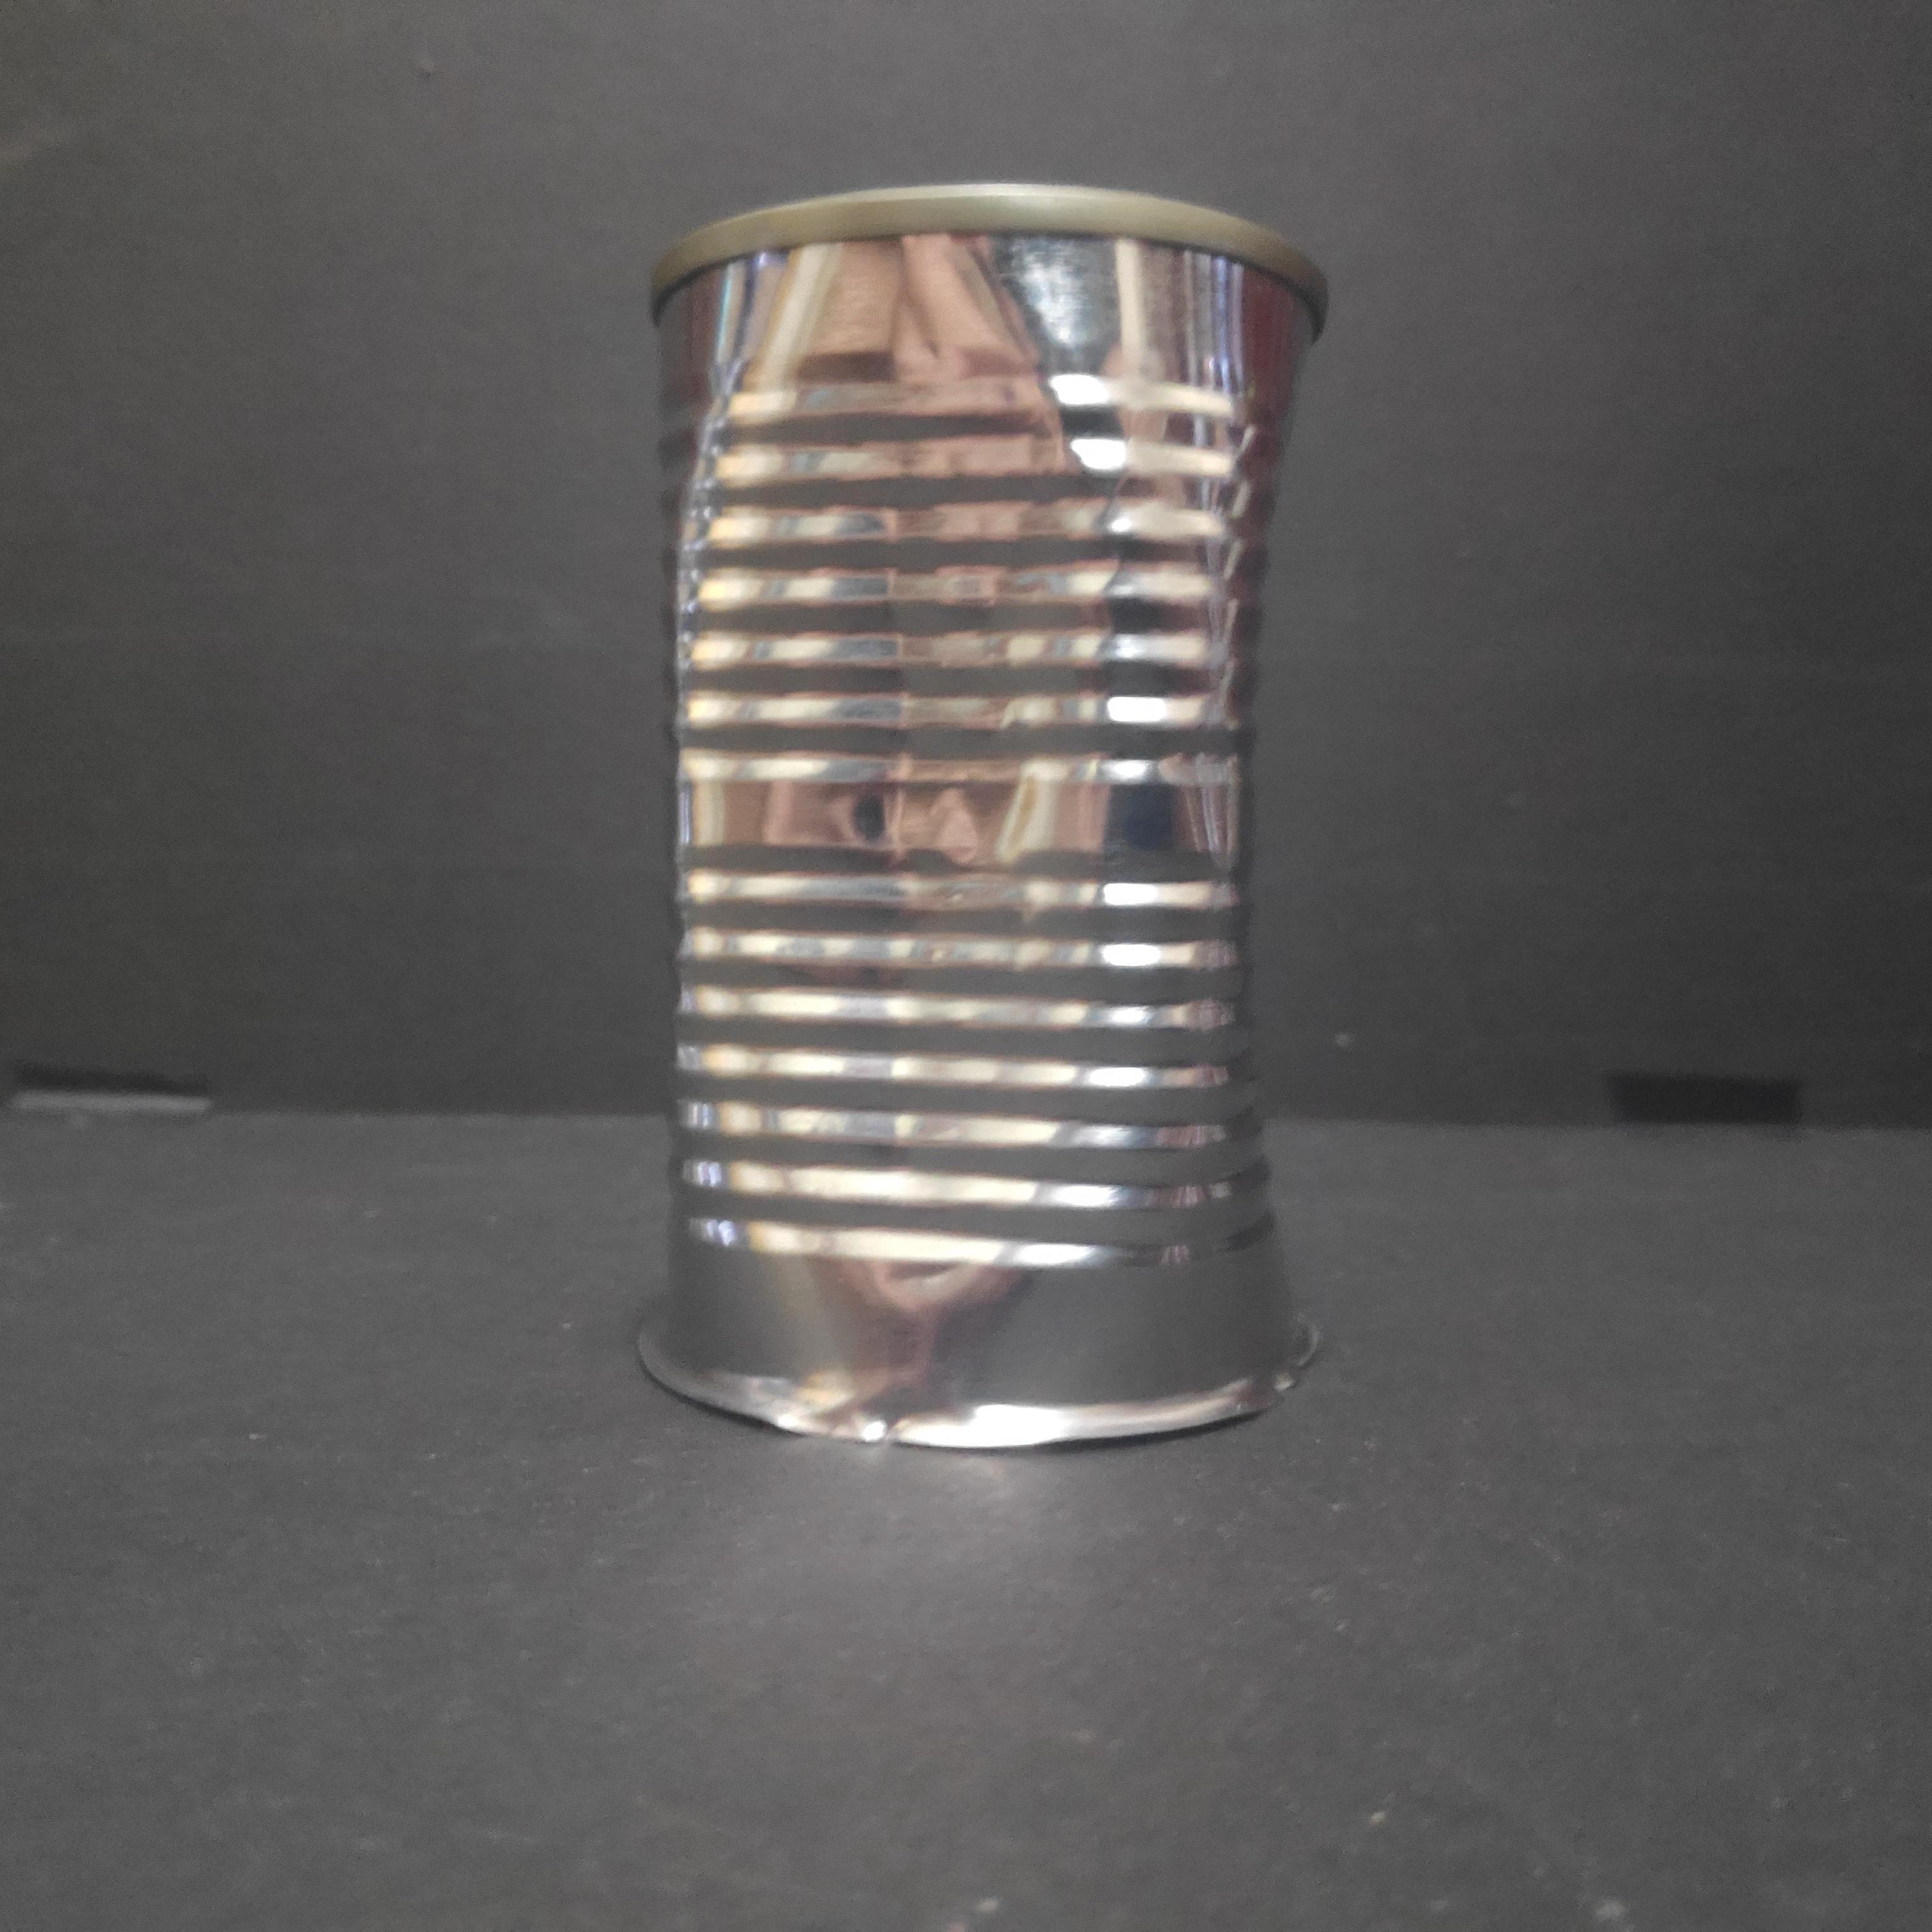Dented: (607, 166, 1352, 1467)
